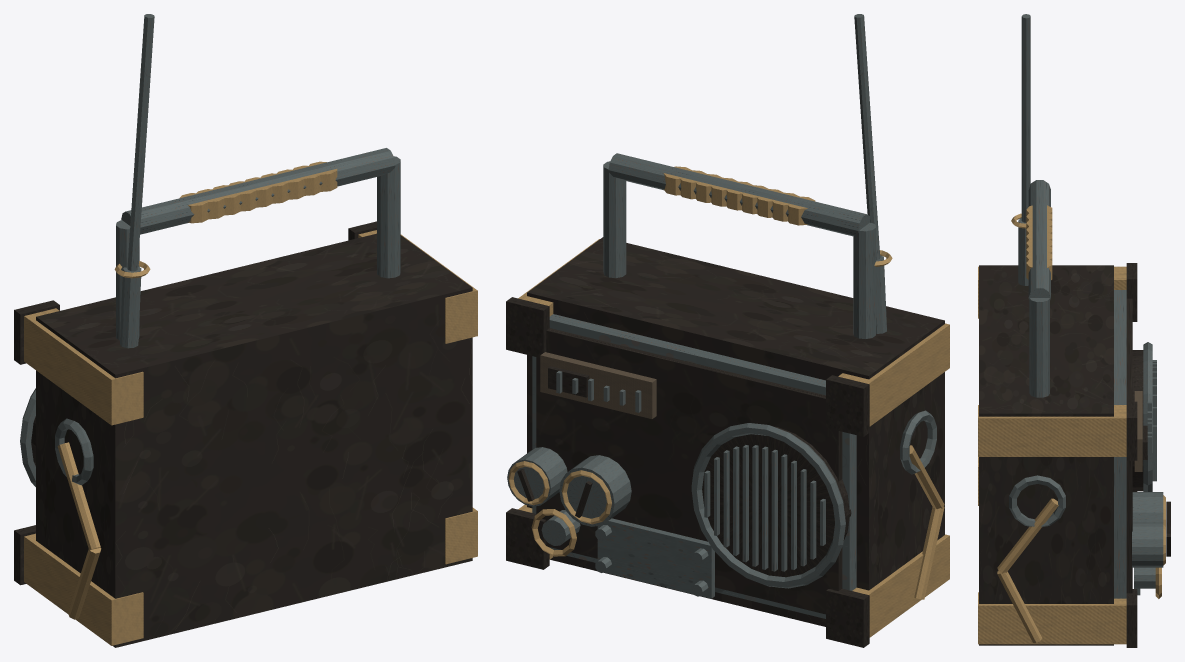
Rendered from pr-005_portable_radio__off.obj.
3 renders of one model, left to right at view 1: azimuth 30°, elevation 25°; view 2: azimuth 150°, elevation 25°; view 3: azimuth 270°, elevation 25°, orthographic. The views are drawn at different scales.
Visible parts, largest first — view 1: pr-005_portable_radio__off; view 2: pr-005_portable_radio__off; view 3: pr-005_portable_radio__off.
Boxes of the visible parts, x1,y1,x2,y2 form: pr-005_portable_radio__off: (14,14,477,647); pr-005_portable_radio__off: (506,14,949,647); pr-005_portable_radio__off: (978,14,1170,647).
Size of the model in its own units: 0.269 by 0.4019 by 0.1386.
4 materials, 4 textured.
